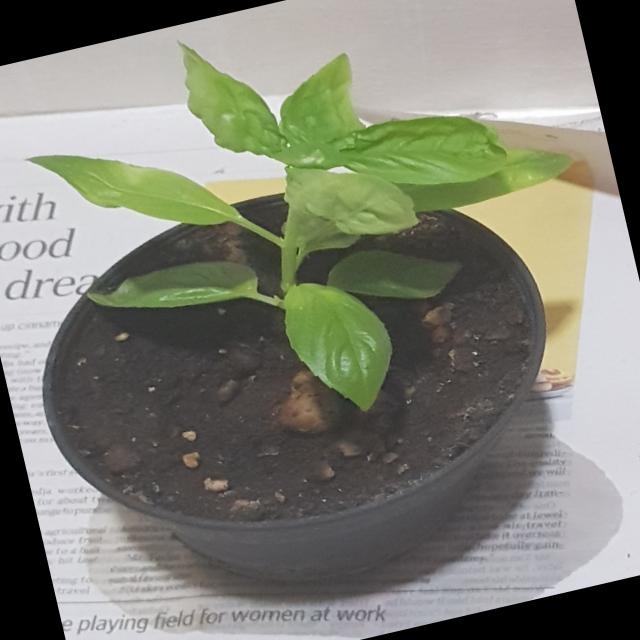Sweet Basil: (0, 0, 630, 485)
